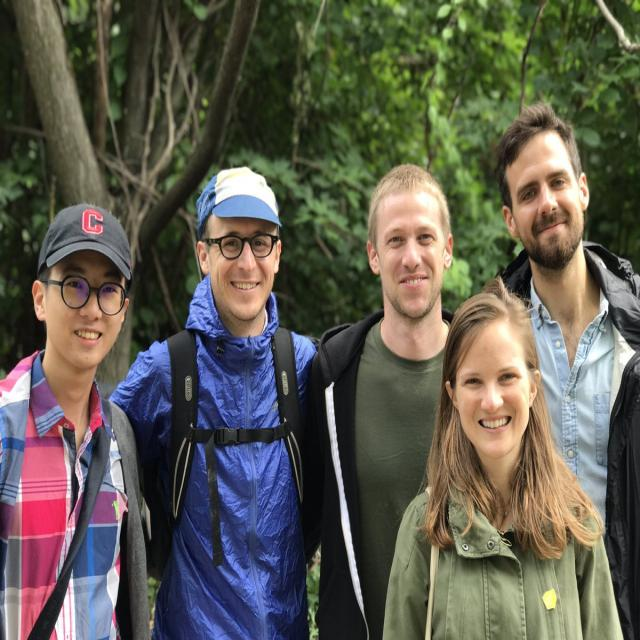body: (104, 159, 319, 639), (376, 270, 632, 640), (482, 96, 640, 640), (294, 160, 461, 640), (0, 198, 157, 639)
